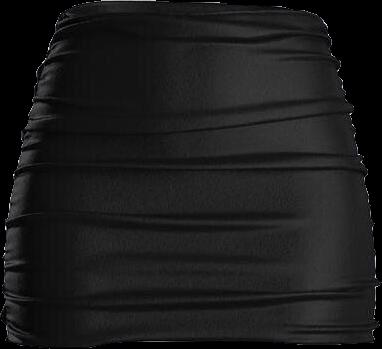Hemline: (5, 335, 377, 348)
Waistline: (58, 0, 322, 22)
